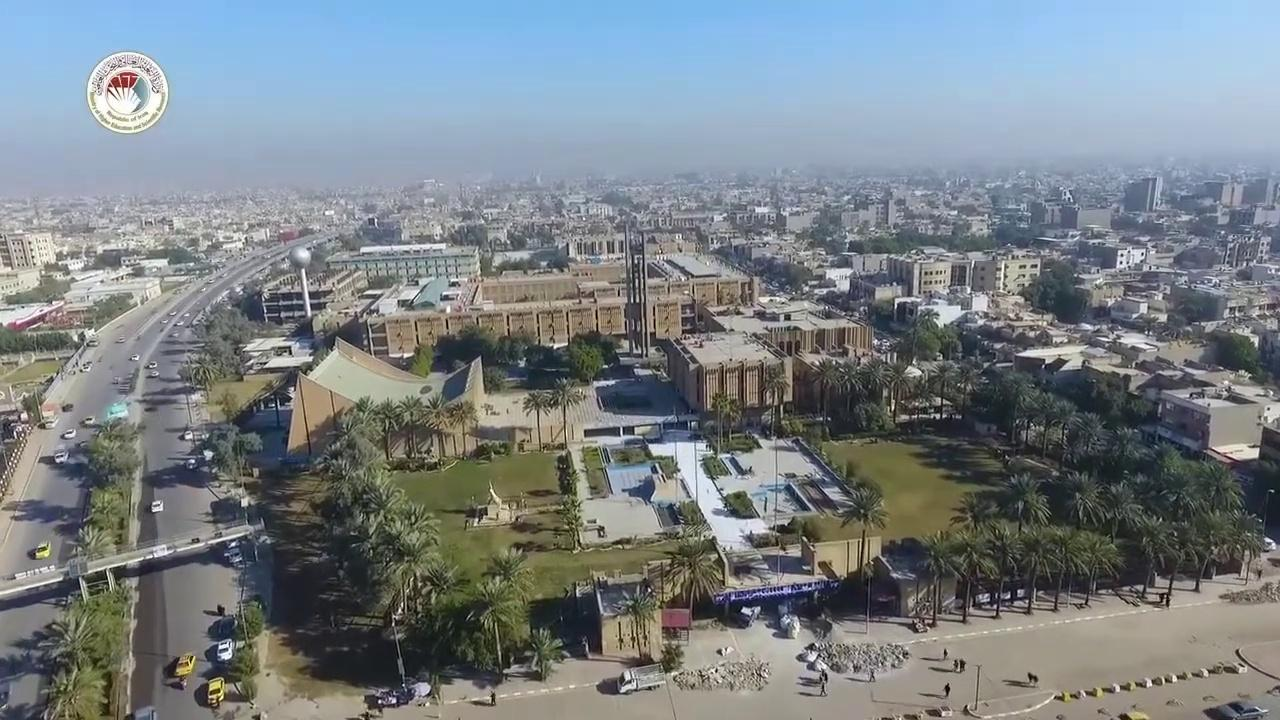car: (617, 662, 666, 694), (1213, 700, 1269, 719), (173, 652, 195, 677), (216, 638, 234, 661), (29, 541, 50, 559), (1261, 536, 1277, 551), (53, 449, 68, 464), (150, 499, 163, 513), (185, 456, 198, 470), (61, 428, 76, 439), (202, 449, 215, 460), (81, 415, 95, 425), (182, 430, 193, 440), (128, 354, 139, 361), (146, 361, 157, 368), (115, 336, 125, 343), (149, 370, 159, 377), (168, 332, 179, 338)
person: (818, 669, 828, 695), (942, 681, 950, 697), (489, 690, 496, 705), (942, 647, 948, 659)
tree: (314, 376, 552, 688), (916, 409, 1265, 621), (8, 576, 135, 719), (808, 350, 982, 430), (337, 391, 478, 467), (362, 499, 441, 618), (405, 558, 469, 703), (77, 417, 144, 551), (659, 532, 724, 639), (469, 574, 529, 682), (204, 422, 263, 523), (834, 480, 889, 585), (758, 361, 789, 538), (945, 527, 997, 622), (1066, 529, 1124, 607), (979, 521, 1020, 618), (1012, 524, 1056, 614), (918, 528, 958, 626), (43, 662, 109, 719), (1130, 509, 1172, 598), (612, 585, 659, 662), (1043, 524, 1085, 610), (994, 470, 1050, 533), (231, 601, 264, 706), (553, 449, 586, 552), (1089, 480, 1141, 544), (482, 545, 536, 602), (1057, 469, 1103, 529), (548, 375, 585, 449), (420, 392, 454, 464), (947, 489, 999, 536), (1231, 510, 1264, 583), (526, 625, 565, 681), (925, 358, 960, 419), (520, 388, 553, 451), (809, 356, 840, 423), (709, 390, 741, 454), (370, 396, 402, 460), (446, 397, 479, 457), (396, 393, 426, 459), (879, 358, 909, 423), (67, 523, 116, 561), (953, 355, 982, 418), (832, 357, 862, 417), (760, 361, 789, 423), (566, 338, 603, 384), (233, 644, 260, 706), (904, 365, 929, 425), (177, 362, 199, 427), (722, 395, 742, 443), (658, 640, 684, 672)
